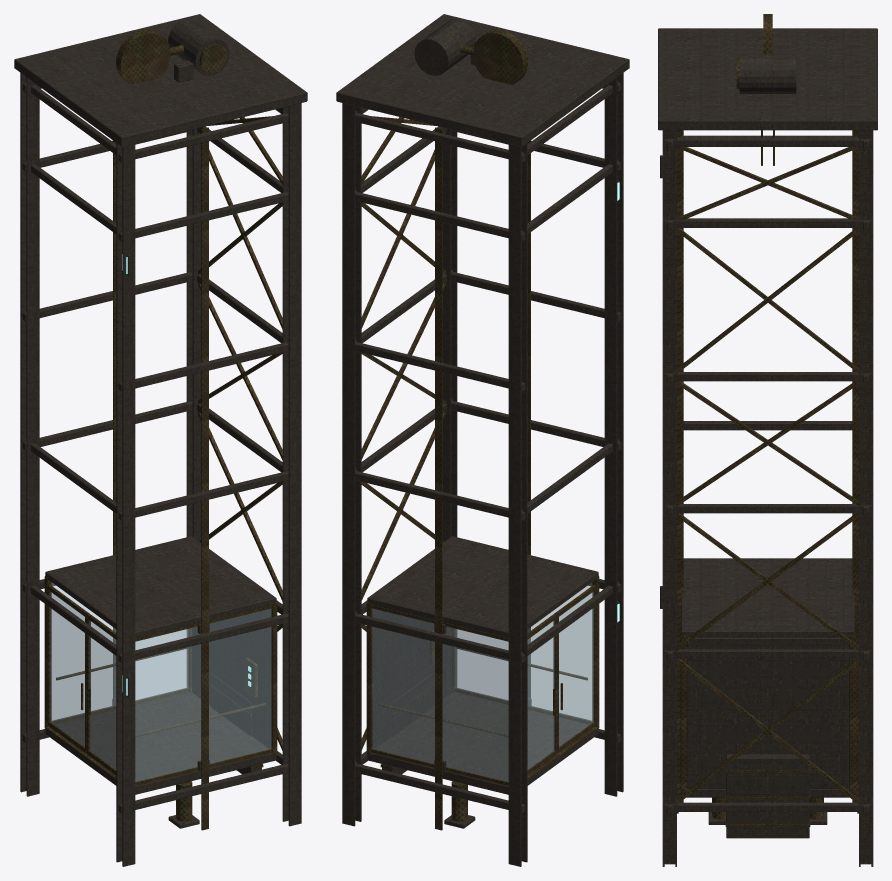
File: elevador.glb
3 renders of one model, left to right at view 1: azimuth 30°, elevation 25°; view 2: azimuth 150°, elevation 25°; view 3: azimuth 270°, elevation 25°, orthographic. The views are drawn at different scales.
Parts seen in each view (by area): view 1: ELV_Estrutura, ELV_Cabine, ELV_PortaD, ELV_PortaE, ELV_Contrapeso; view 2: ELV_Estrutura, ELV_Cabine, ELV_PortaE, ELV_PortaD, ELV_Contrapeso; view 3: ELV_Estrutura, ELV_Cabine, ELV_Contrapeso.
Boxes of the visible parts, x1,y1,x2,y2 form: ELV_Estrutura: (14, 14, 307, 866); ELV_Cabine: (44, 536, 277, 794); ELV_PortaD: (47, 584, 88, 753); ELV_PortaE: (87, 613, 116, 775); ELV_Contrapeso: (210, 673, 263, 774); ELV_Estrutura: (336, 14, 629, 866); ELV_Cabine: (366, 536, 599, 794); ELV_PortaE: (555, 584, 596, 753); ELV_PortaD: (527, 613, 556, 775); ELV_Contrapeso: (380, 673, 434, 774); ELV_Estrutura: (658, 14, 877, 866); ELV_Cabine: (679, 558, 856, 797); ELV_Contrapeso: (725, 754, 810, 838).
Size of the model in its own units: 3.7 by 14.8 by 3.7.
Materials: 6 (3 with a texture image).
